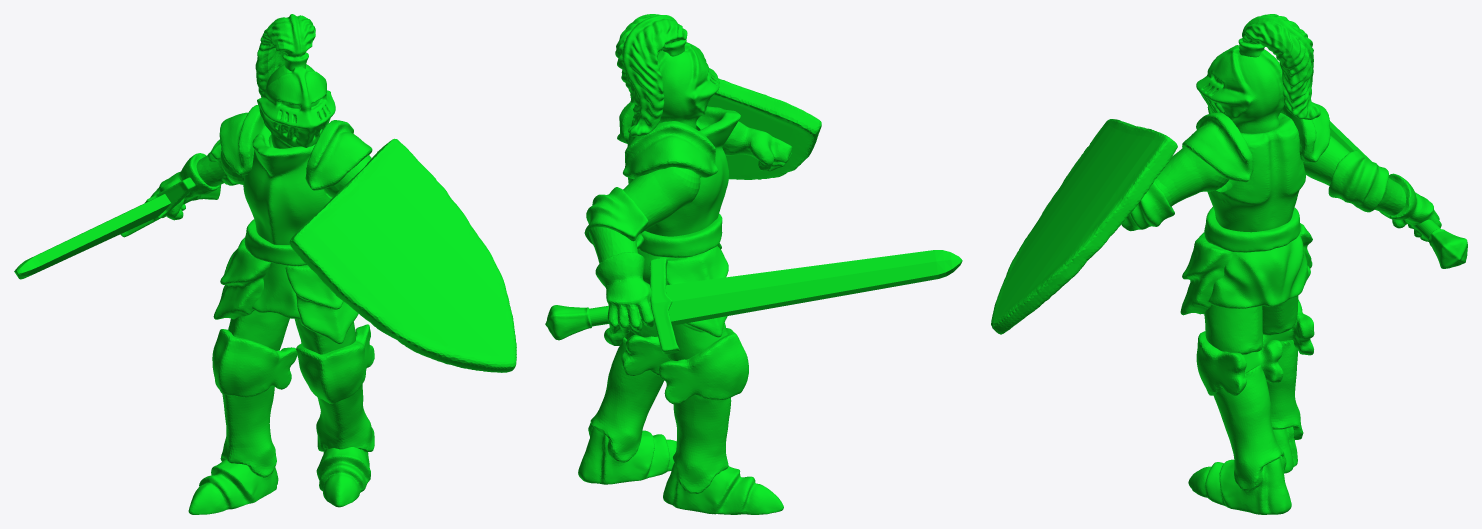
File: guardiaCorrecto.glb
3 views of the same model, side by side, from view 1: azimuth 30°, elevation 25°; view 2: azimuth 150°, elevation 25°; view 3: azimuth 270°, elevation 25° (orthographic). The views are drawn at different scales.
Visible parts, largest first — view 1: body_v3; view 2: body_v3; view 3: body_v3.
Part boxes in pixels (x1=…): body_v3: x1=14, y1=14, x2=516, y2=514; body_v3: x1=545, y1=14, x2=962, y2=514; body_v3: x1=991, y1=14, x2=1467, y2=514.
Size of the model in its own units: 31.65 by 35.7 by 33.24.
